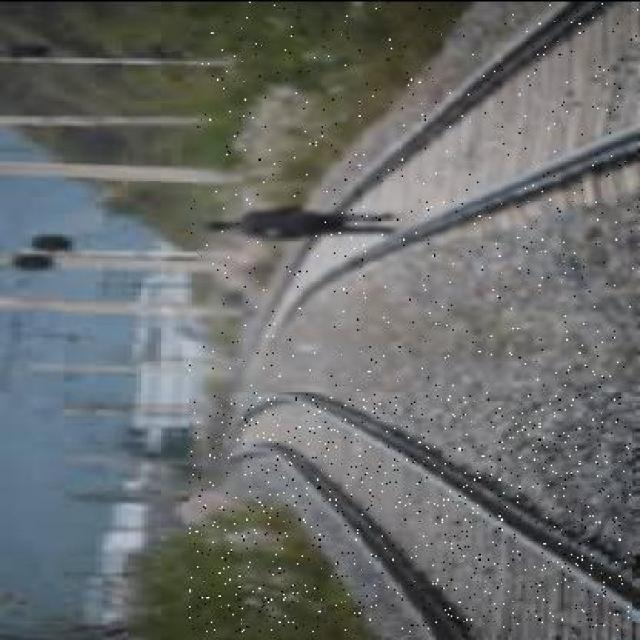danger: (190, 198, 422, 250)
rail: (198, 0, 638, 391), (190, 363, 632, 631)
